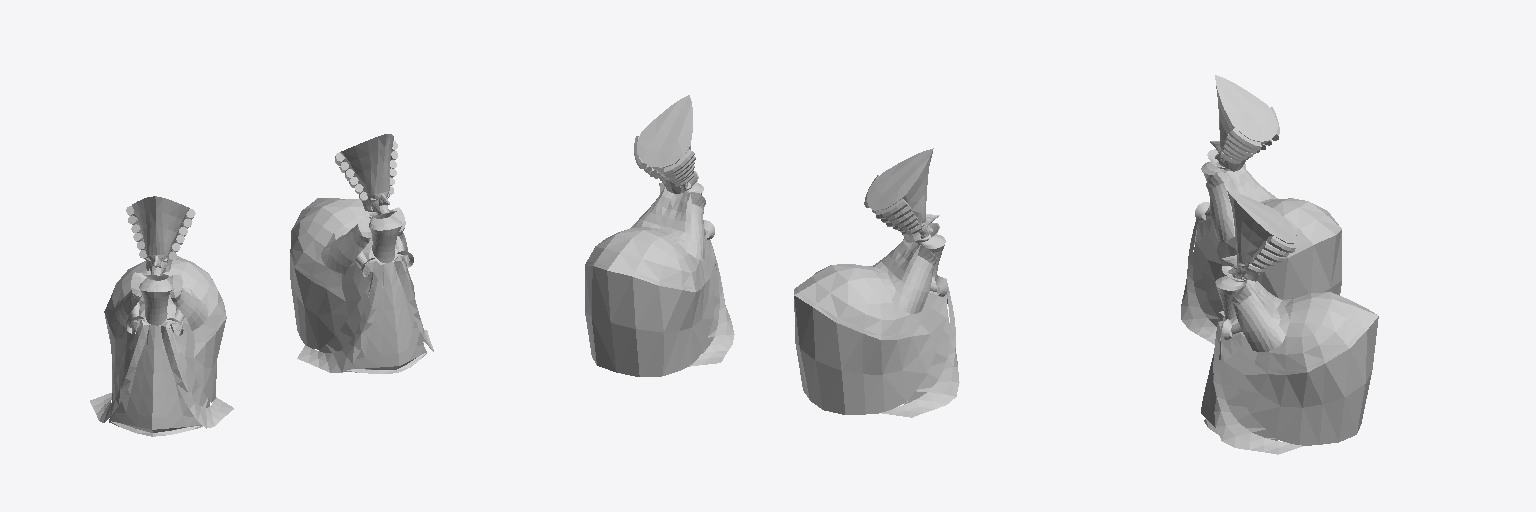
File: SM_Triangle.obj
3 renders of one model, left to right at view 1: azimuth 30°, elevation 25°; view 2: azimuth 150°, elevation 25°; view 3: azimuth 270°, elevation 25°, orthographic.
Visible parts, largest first — view 1: Cylinder.006; view 2: Cylinder.006; view 3: Cylinder.006.
Part boxes in pixels (bbox=[...]): Cylinder.006: bbox=[90, 134, 433, 436]; Cylinder.006: bbox=[585, 95, 959, 417]; Cylinder.006: bbox=[1181, 75, 1378, 454].
Bounding box in the file's own units: 1.8 × 1.18 × 0.9062.